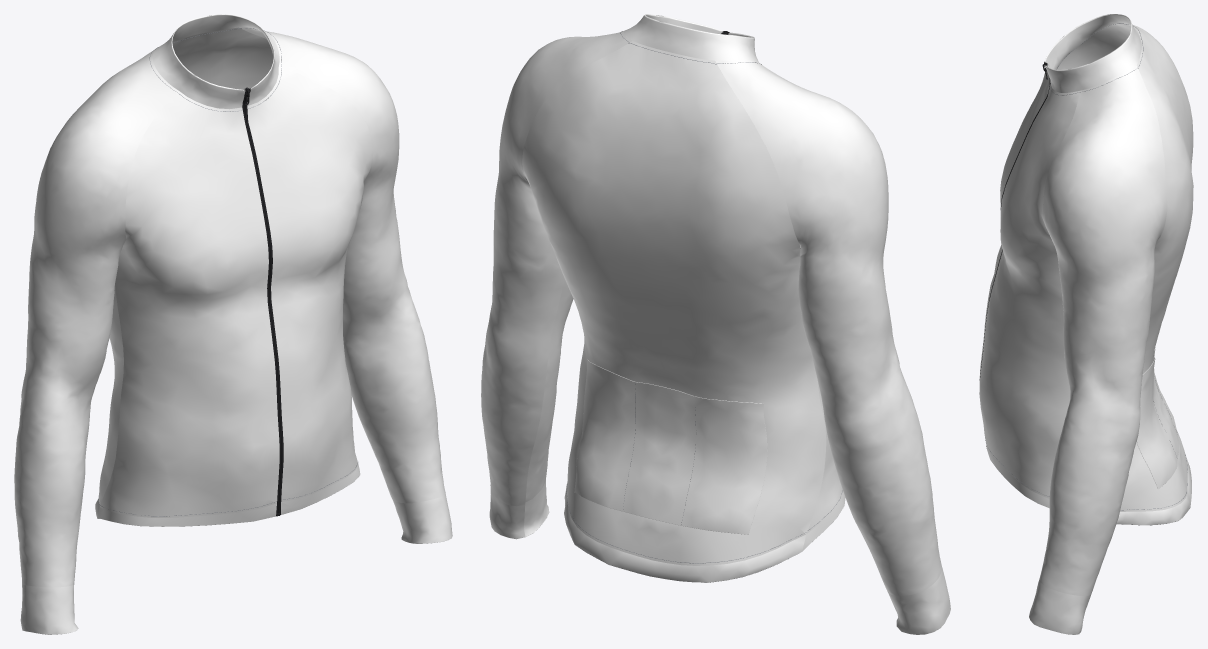
File: modelo.glb
The picture shows the model from 3 angles, left to right: view 1: azimuth 30°, elevation 25°; view 2: azimuth 150°, elevation 25°; view 3: azimuth 270°, elevation 25°; orthographic projection. The views are drawn at different scales.
Visible parts, largest first — view 1: Cloth; view 2: Cloth; view 3: Cloth.
Boxes of the visible parts, box(x1,y1,x2,y2) form: Cloth: box(14, 14, 452, 634); Cloth: box(481, 14, 950, 634); Cloth: box(979, 14, 1193, 634).
Size of the model in its own units: 0.5946 by 0.7346 by 0.2755.
Materials: 10 (10 with a texture image).
